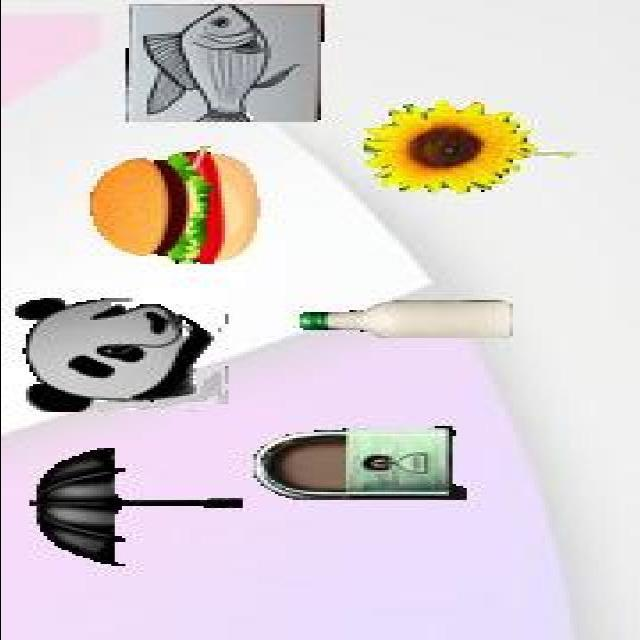Other Objects: (84, 146, 260, 266), (249, 424, 466, 501), (293, 298, 511, 341)
